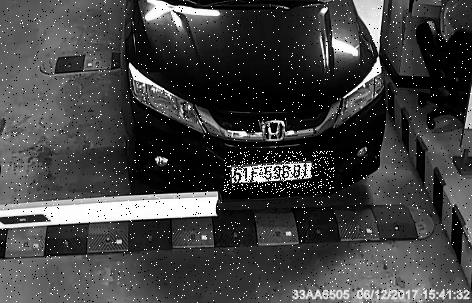License-plate: (225, 152, 335, 194)
